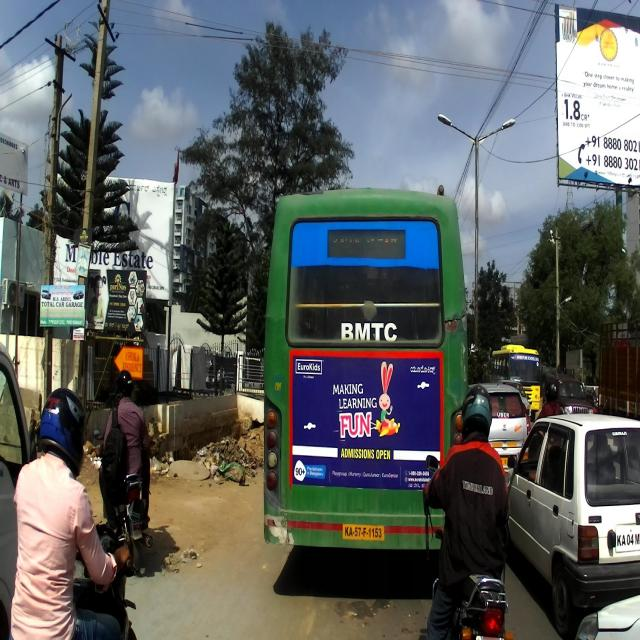Car_Mahindra: (539, 370, 598, 421)
Car_Maruti-Suzuki: (502, 412, 640, 639)
Car_TATA: (464, 380, 531, 485)
bus: (260, 187, 468, 549)
motorcycle_Hero: (424, 455, 515, 638), (93, 426, 154, 573)
motorcycle_Honda: (21, 496, 143, 638)
